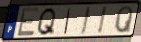E: (16, 6, 40, 38)
I: (96, 5, 108, 36), (80, 5, 92, 36), (63, 7, 72, 35)
Q: (35, 7, 57, 37), (113, 5, 134, 34)
